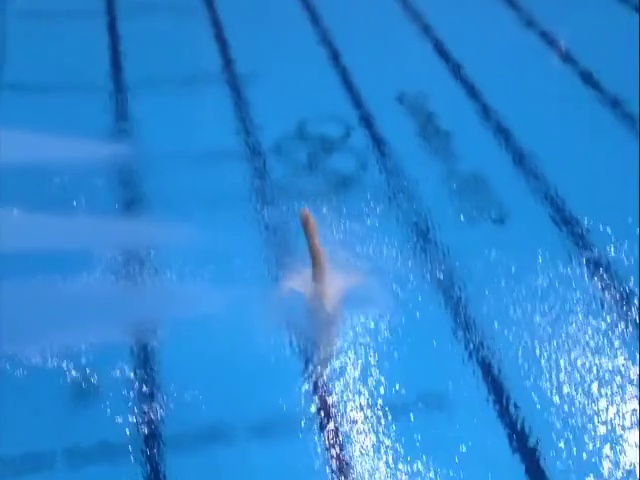diver: (300, 208, 327, 284)
splash: (327, 266, 346, 314), (284, 271, 300, 291)
